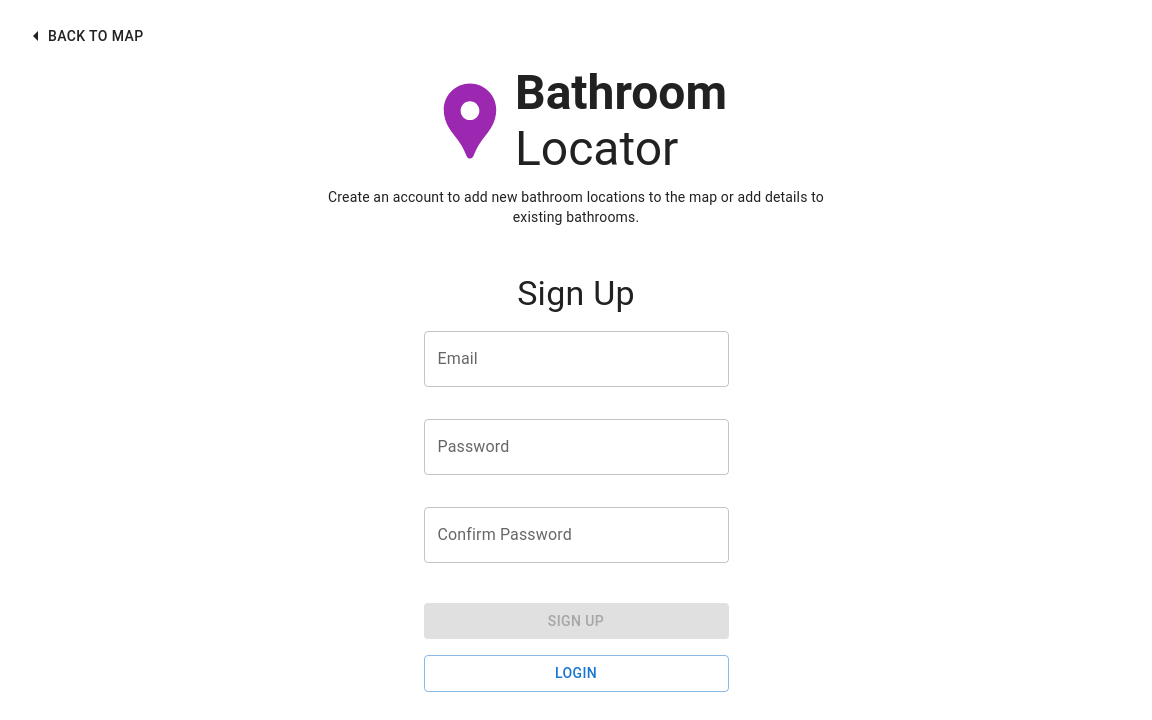
Test: Email is of the wrong format › shows an error
Type "badEmailFormat" into the field labelled "Email" at (576,358), box [424,330,728,386]
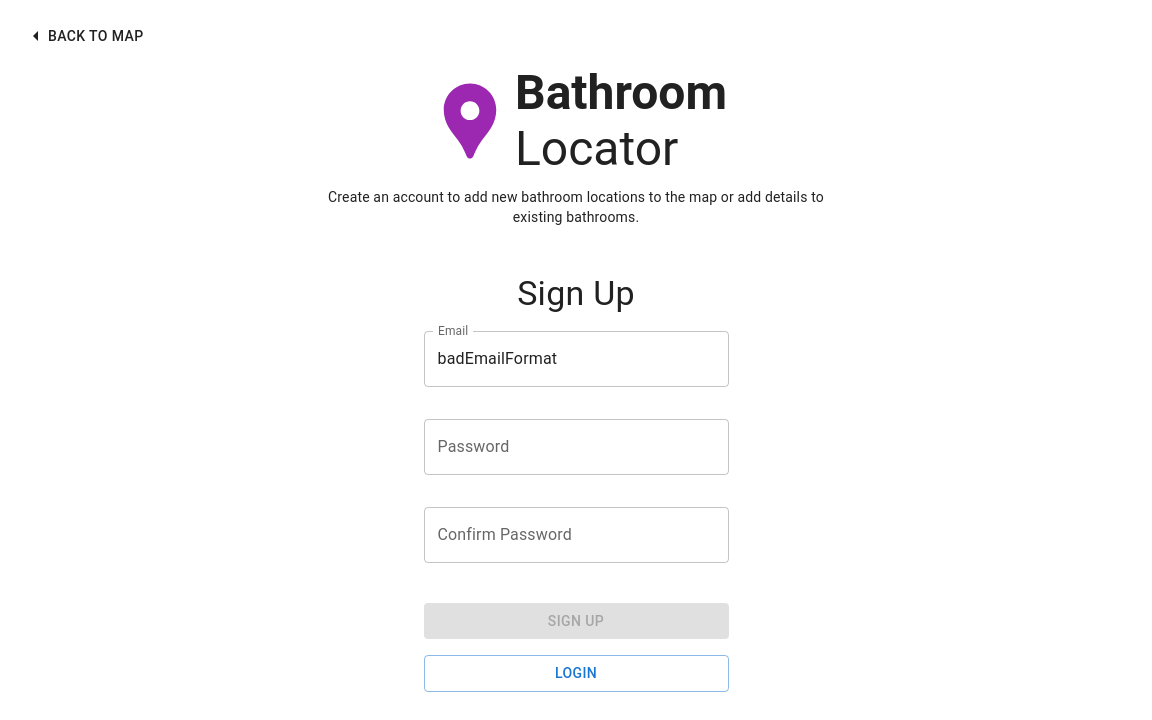
Type "password123" into the password field labelled "Password" at (576,446), box [424,418,728,474]
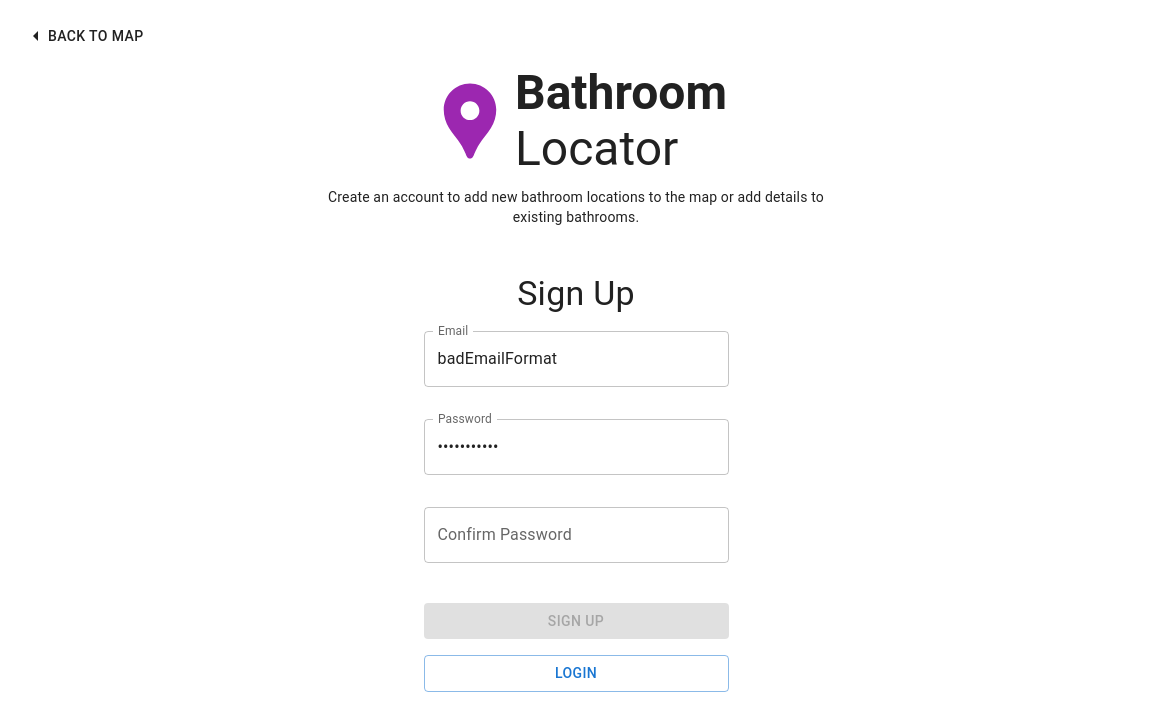
Type "password123" into the password field labelled "Confirm Password" at (576,534), box [424,506,728,562]
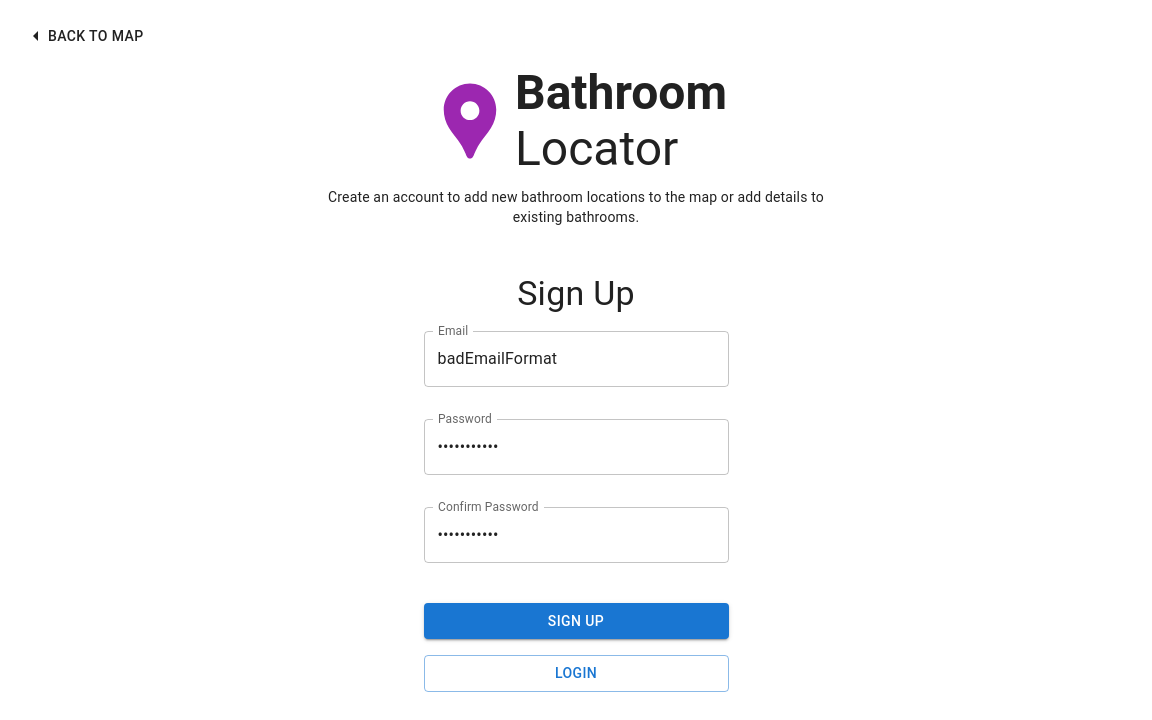
Click the button "Sign Up" at (576,621), box [424,602,728,639]
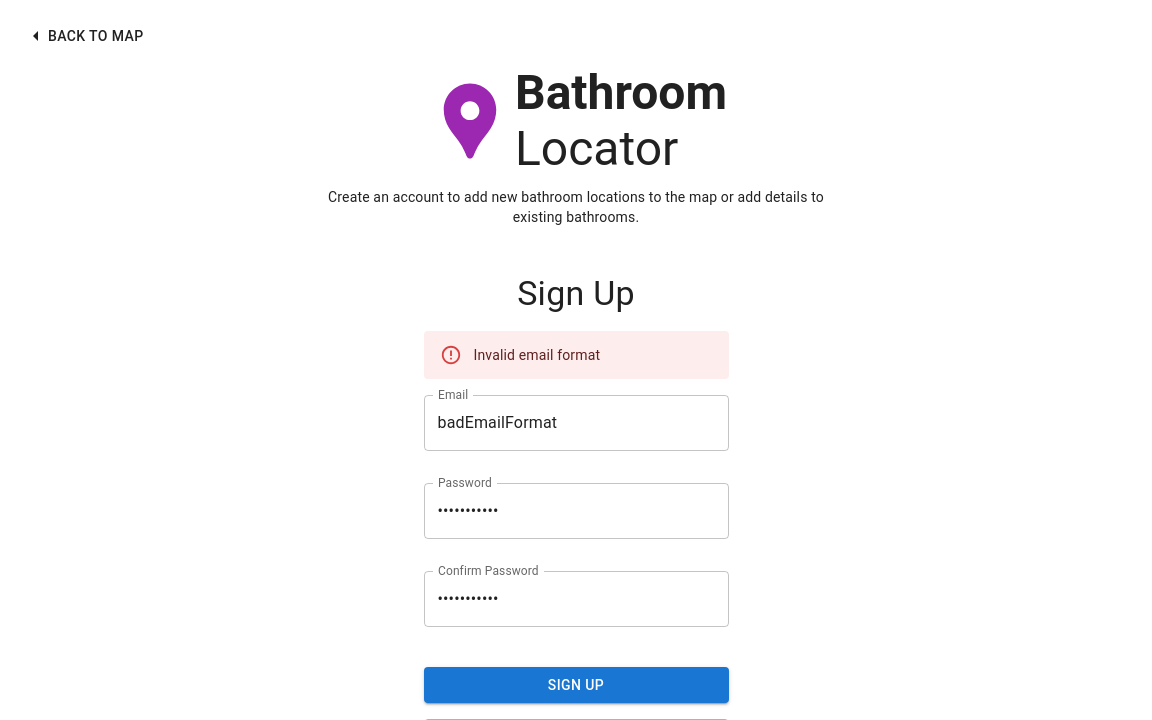
Expected: the message reads "Invalid email format", [474,346,600,362]
